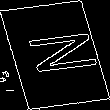N_E: (12, 30, 98, 80)
